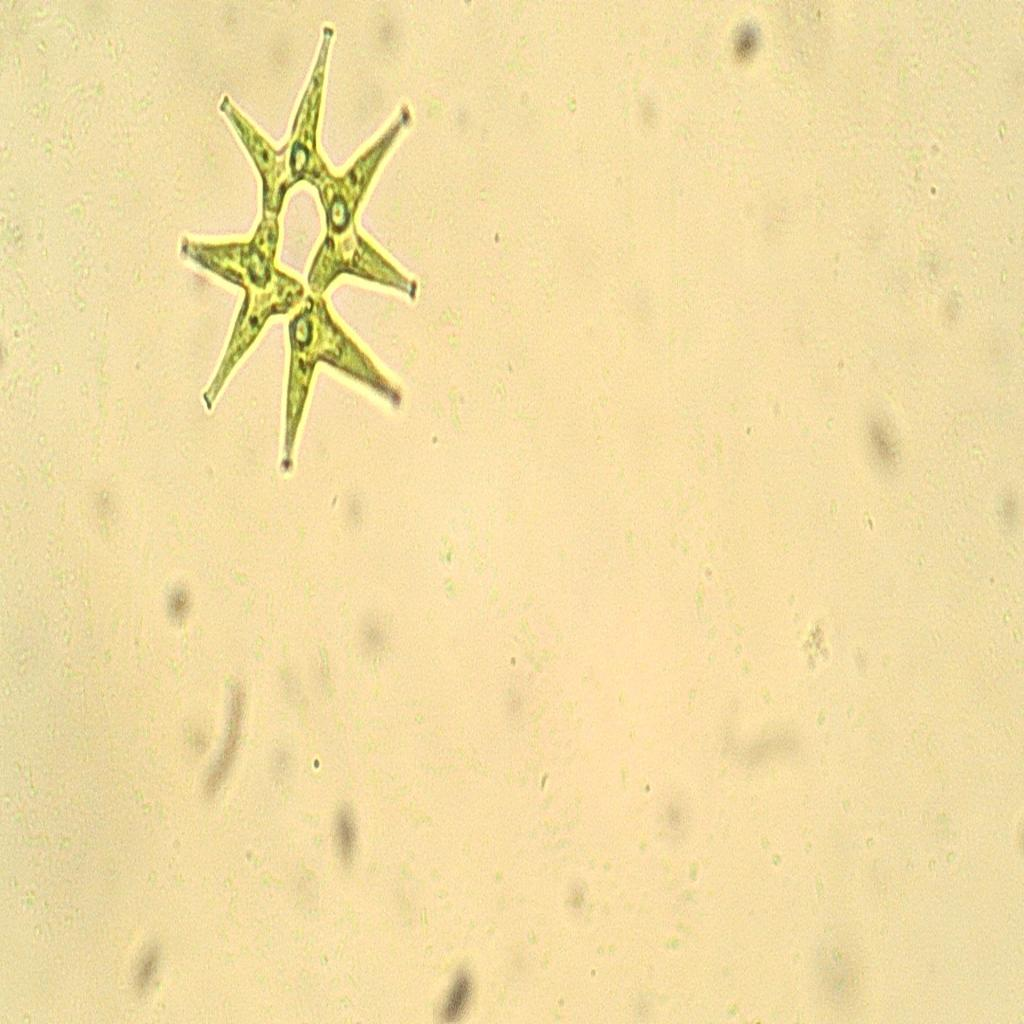Pediastrum_CT: (167, 10, 440, 510)
